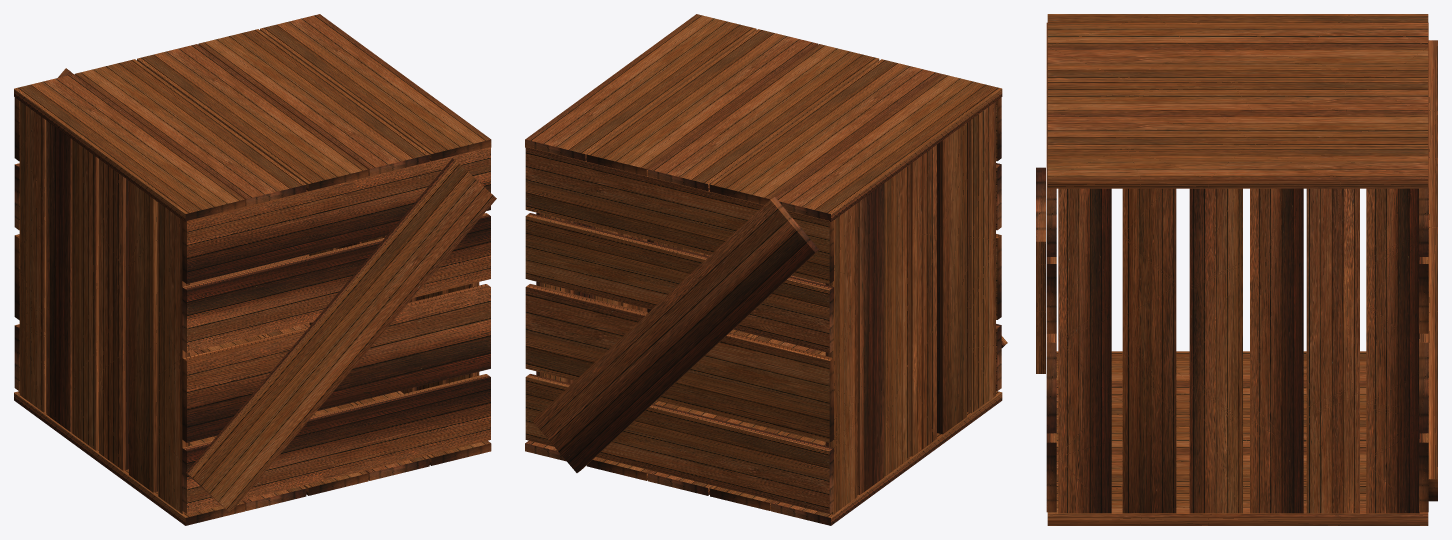
Rendered from crate broken.fbx.
3 renders of one model, left to right at view 1: azimuth 30°, elevation 25°; view 2: azimuth 150°, elevation 25°; view 3: azimuth 270°, elevation 25°, orthographic. The views are drawn at different scales.
Visible parts, largest first — view 1: polySurface109, polySurface104, polySurface89, polySurface77, polySurface88, polySurface86, polySurface107, polySurface81, polySurface95, polySurface108, polySurface94, polySurface83 (+51 smaller); view 2: pasted__polySurface86, polySurface98, polySurface96, polySurface102, pasted__polySurface88, pasted__polySurface79, pasted__polySurface93, polySurface51, pasted__polySurface91, pasted__polySurface85, polySurface19, pasted__polySurface81 (+51 smaller); view 3: pasted__polySurface19, pasted__pasted__polySurface28, pasted__polySurface42, pasted__polySurface10, pasted__polySurface9, pasted__polySurface14, pasted__polySurface15, pasted__polySurface26, polySurface55, polySurface51, pasted__polySurface13, polySurface61 (+54 smaller).
Boxes of the visible parts, <box> form: polySurface109: <box>322,238,450,364</box>; polySurface104: <box>186,403,322,512</box>; polySurface89: <box>217,313,445,398</box>; polySurface77: <box>233,181,351,265</box>; polySurface88: <box>400,284,490,379</box>; polySurface86: <box>182,349,368,442</box>; polySurface107: <box>235,312,355,417</box>; polySurface81: <box>182,265,277,352</box>; polySurface95: <box>312,385,441,475</box>; polySurface108: <box>385,158,496,252</box>; polySurface94: <box>376,374,490,467</box>; polySurface83: <box>256,244,360,336</box>; pasted__polySurface86: <box>657,349,833,442</box>; polySurface98: <box>615,294,749,437</box>; polySurface96: <box>532,337,622,472</box>; polySurface102: <box>669,233,818,315</box>; pasted__polySurface88: <box>525,284,622,379</box>; pasted__polySurface79: <box>564,164,681,247</box>; pasted__polySurface93: <box>676,416,807,508</box>; polySurface51: <box>826,121,954,196</box>; pasted__polySurface91: <box>721,421,833,513</box>; pasted__polySurface85: <box>570,233,669,309</box>; polySurface19: <box>884,177,909,424</box>; pasted__polySurface81: <box>753,276,833,352</box>; pasted__polySurface19: <box>1250,188,1303,454</box>; pasted__pasted__polySurface28: <box>1306,188,1352,418</box>; pasted__polySurface42: <box>1058,188,1111,340</box>; pasted__polySurface10: <box>1122,348,1176,513</box>; pasted__polySurface9: <box>1122,234,1176,418</box>; pasted__polySurface14: <box>1189,266,1242,423</box>; pasted__polySurface15: <box>1189,383,1242,513</box>; pasted__polySurface26: <box>1306,396,1359,513</box>; polySurface55: <box>1123,47,1382,80</box>; polySurface51: <box>1155,14,1350,46</box>; pasted__polySurface13: <box>1189,188,1242,286</box>; polySurface61: <box>1047,80,1253,113</box>.
Bounding box in the file's own units: 8.67 × 8.67 × 8.86.
Materials: 1 (1 with a texture image).
